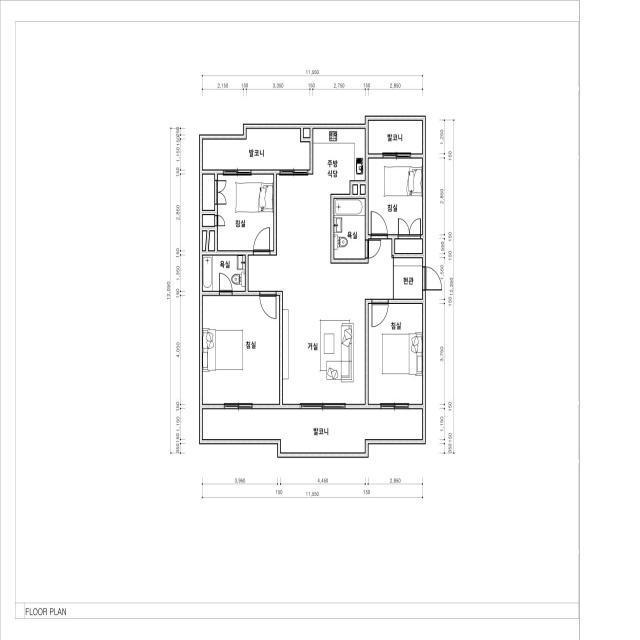background: (0, 0, 640, 640)
space_balconi: (203, 409, 422, 453), (203, 128, 310, 170), (368, 120, 422, 154)
space_bedroom: (203, 296, 280, 404), (368, 304, 422, 404), (218, 174, 274, 250), (368, 158, 422, 234), (203, 174, 214, 210), (395, 239, 422, 253), (203, 215, 215, 226)
space_front: (393, 258, 422, 299)
space_kitchen: (277, 128, 365, 263)
space_living_room: (248, 239, 393, 404)
space_other: (209, 231, 214, 250), (203, 231, 207, 250), (304, 129, 310, 137), (353, 185, 357, 194), (361, 185, 365, 194)
space_toilet: (334, 199, 365, 259), (202, 255, 245, 291)
